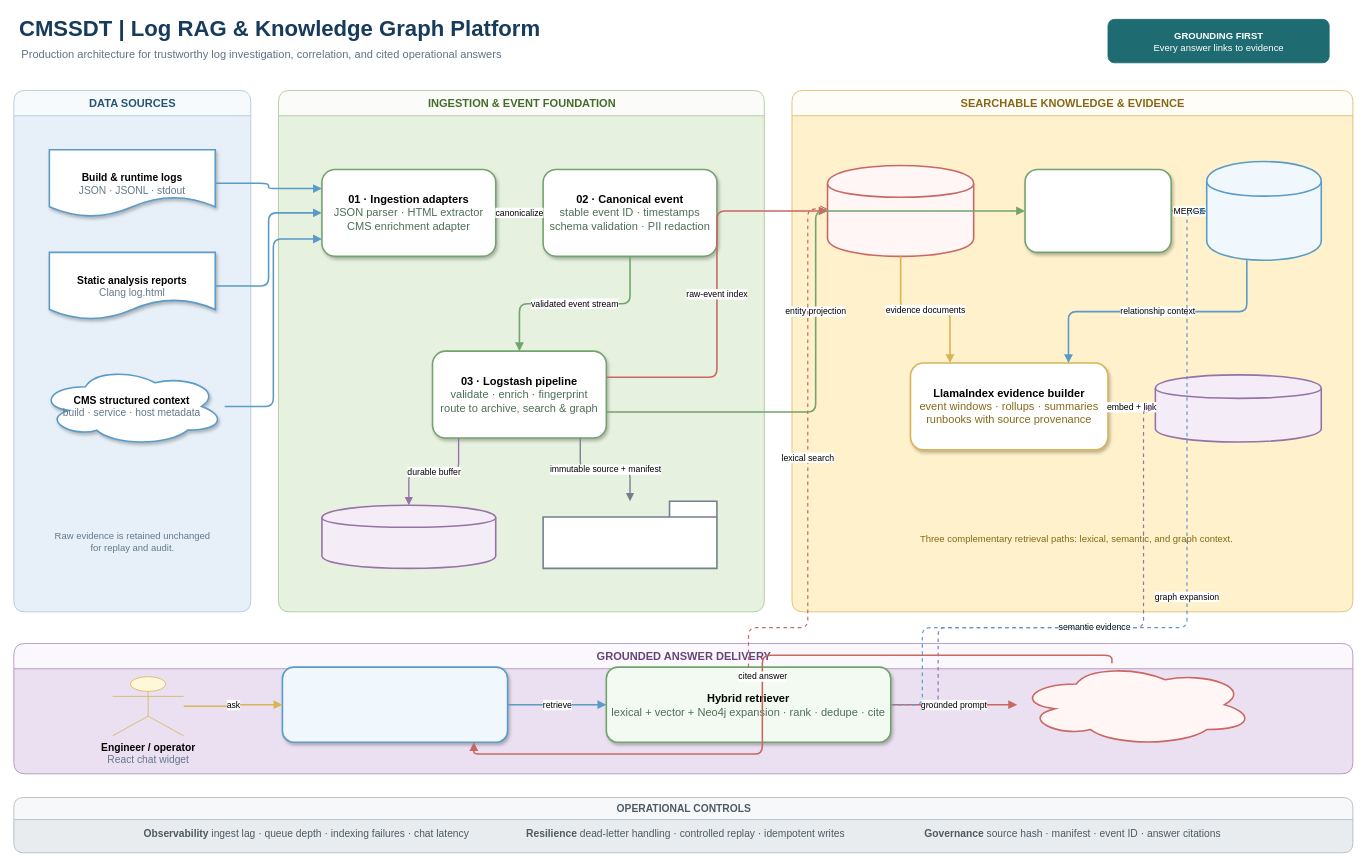
Some shapes in this 1367 by 867 pixel diagram are drawn without their labels. The shapes that lost their labels are listed below. From the top down, each one's centre as x and y in pixels, then its label:
(x=900, y=210): OpenSearch raw events · full-text time, field & keyword filters
(x=1098, y=211): Graph projector batched UNWIND writes idempotent checkpoints
(x=1264, y=210): Neo4j knowledge graph Build · Service · Host Event · Incident · Correlation
(x=1238, y=408): Vector + metadata index embeddings · provenance · event links
(x=408, y=536): Persistent queue back-pressure · retry · replay
(x=629, y=534): Immutable evidence archive sources · manifests · checksums
(x=395, y=705): FastAPI chat API auth · streaming · citation formatting
(x=1135, y=704): CERN LiteLLM gateway OpenAI-compatible LLM · grounded response synthesis
